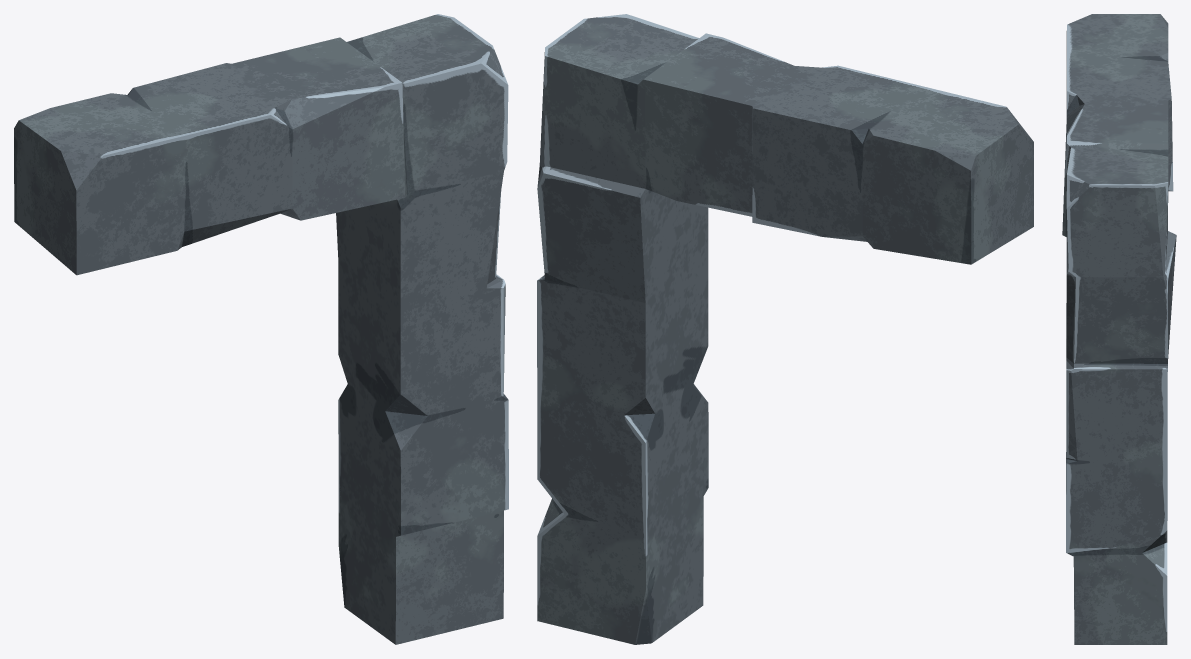
File: Lucid_Tutorial_MovingPiece.fbx
The picture shows the model from 3 angles, left to right: view 1: azimuth 30°, elevation 25°; view 2: azimuth 150°, elevation 25°; view 3: azimuth 270°, elevation 25°; orthographic projection. The views are drawn at different scales.
Visible parts, largest first — view 1: Moving_Piece; view 2: Moving_Piece; view 3: Moving_Piece.
Part boxes in pixels (x1,y1,x2,y2): Moving_Piece: (14,14,508,644); Moving_Piece: (537,14,1033,644); Moving_Piece: (1062,14,1176,644).
Size of the model in its own units: 4 by 5 by 1.13.
1 material, 1 textured.
